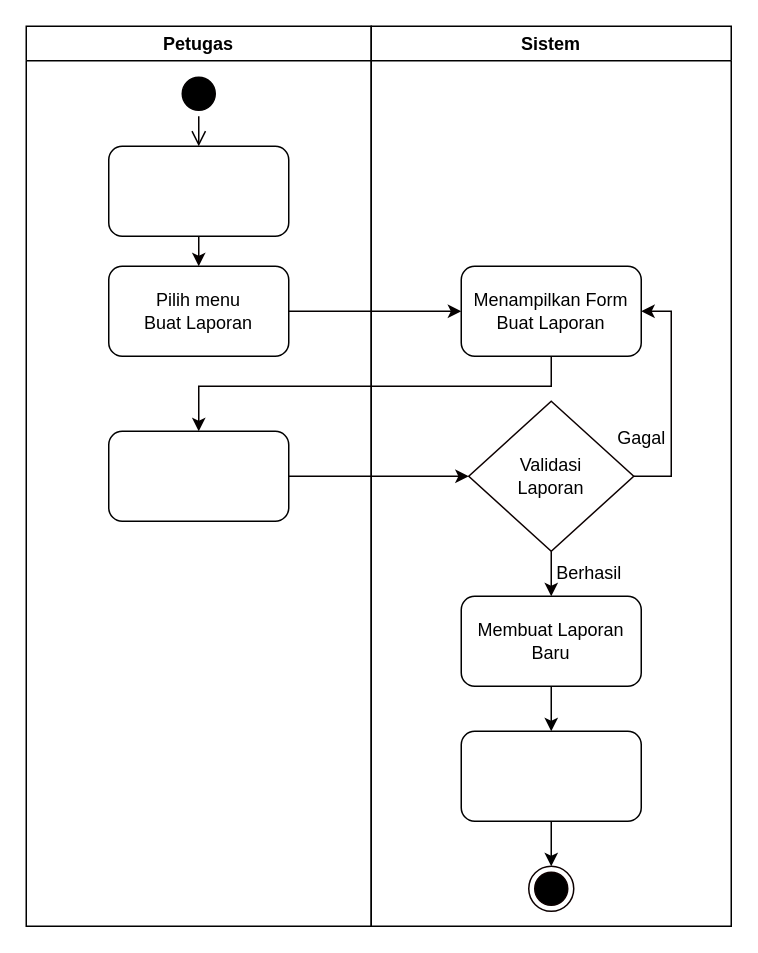
The diagram is 758 pixels wide and 953 high, and some of its shapes have lost their labels. Here are the shapes that lost their labels. From the top down, the centre of each, then its label:
At [198,190]: "Berhasil Login".
At [198,475]: "Mengisi Header Laporan".
At [550,775]: "Menampilkan Daftar Laporan".
